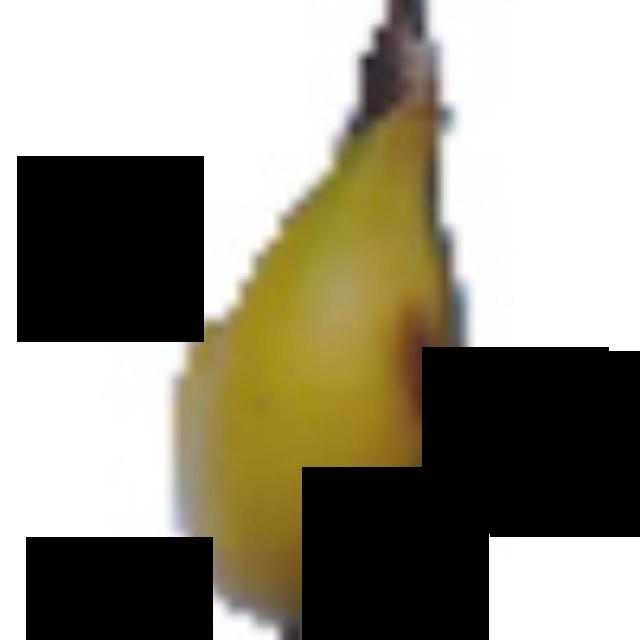banana: (140, 0, 487, 634)
